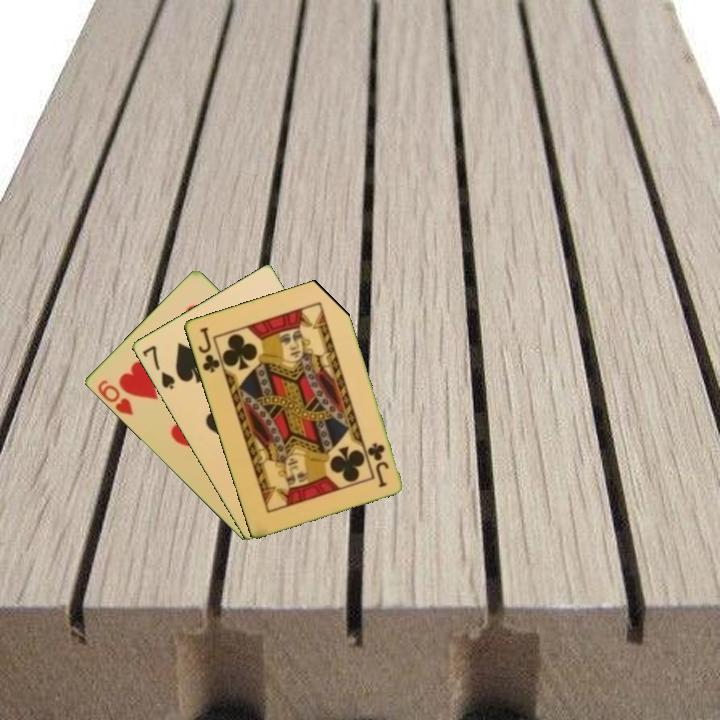6h: (94, 376, 136, 418)
7s: (138, 342, 178, 392)
Jc: (194, 323, 222, 375), (364, 439, 391, 490)
